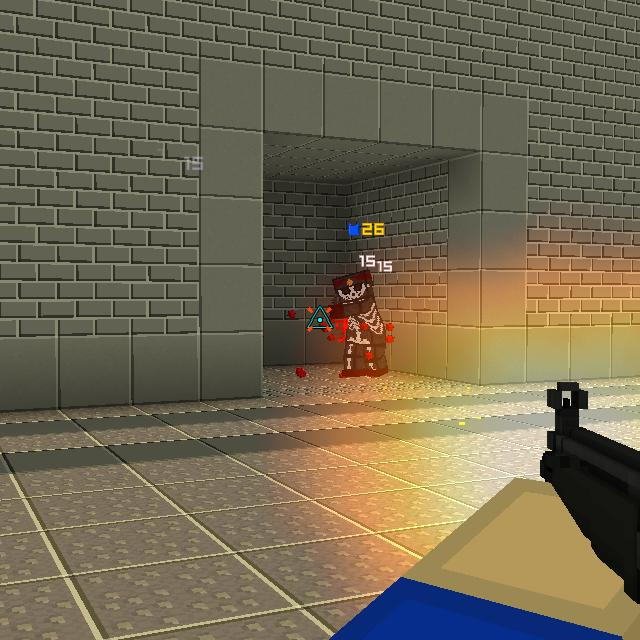enemy: (328, 268, 390, 379)
